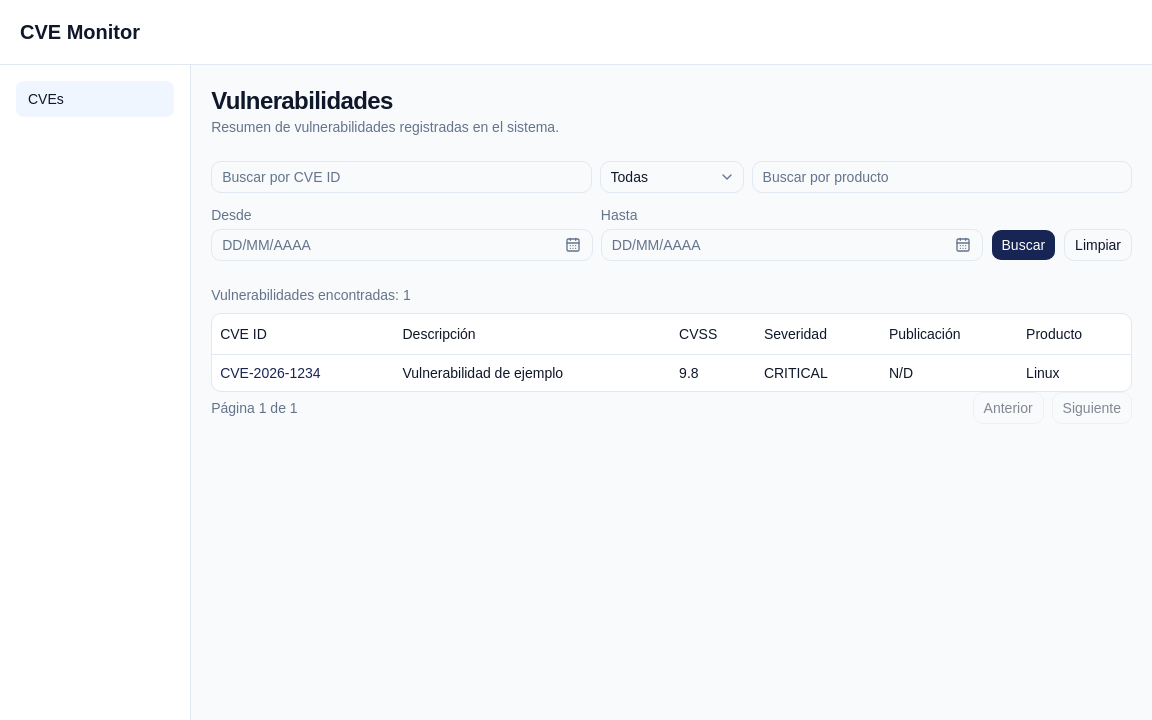
Test: CveListPage › oculta resultados anteriores cuando las fechas son inválidas
expect the text "Vulnerabilidades encontradas: 1" is shown: met, box [211,287,411,303]
expect the table is shown: met, box [212,314,1131,390]
# Introducir una fecha inexistente.
Type "31/02/2026" into the field labelled "Desde" at (402, 245), box [211,229,593,261]
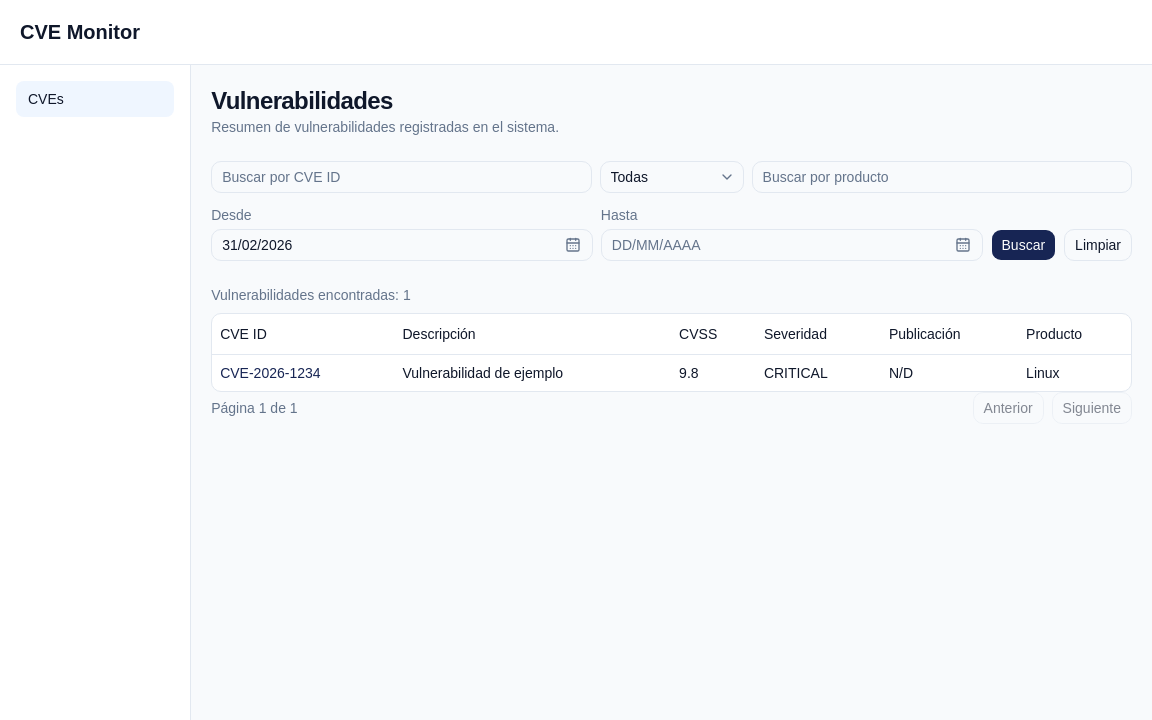
Click the button "Buscar" at (1023, 245), box [990,229,1056,261]
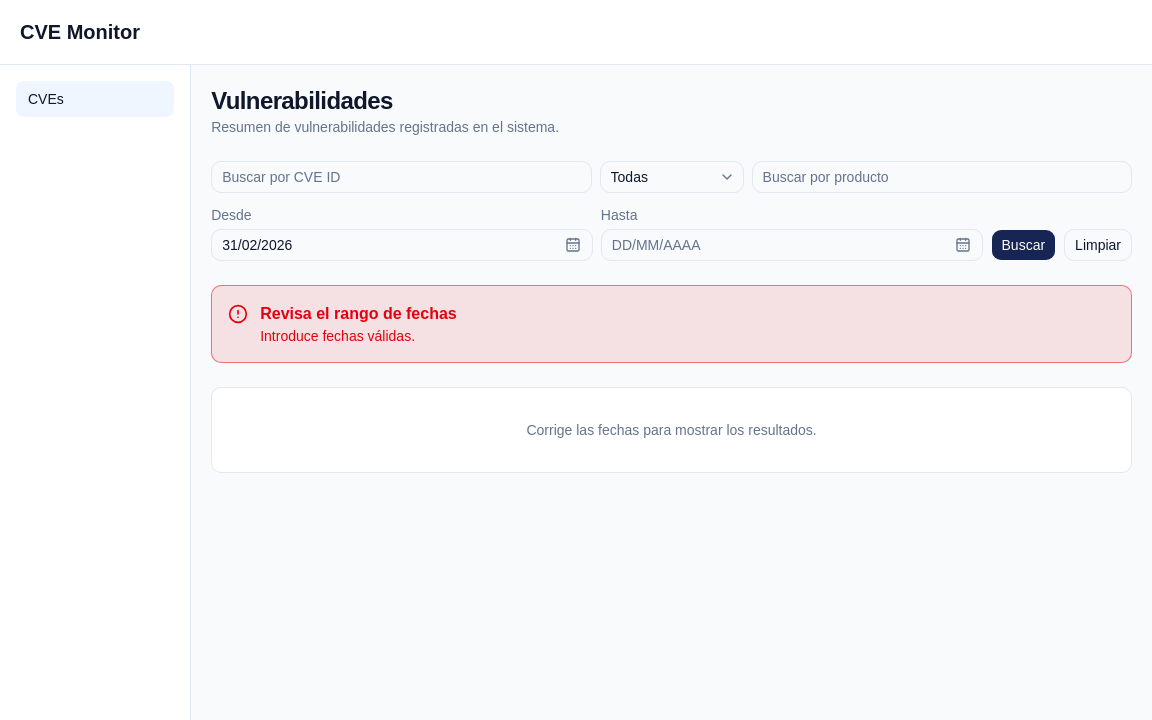
expect the message shows "Introduce fechas válidas.": met, box [260,328,415,344]
expect the table is gone: met
expect the text "Vulnerabilidades encontradas: 1" is gone: met
# Corregir la fecha.
Replace the text in the field labelled "Desde" with "01/02/2026" at (402, 245), box [211,229,593,261]
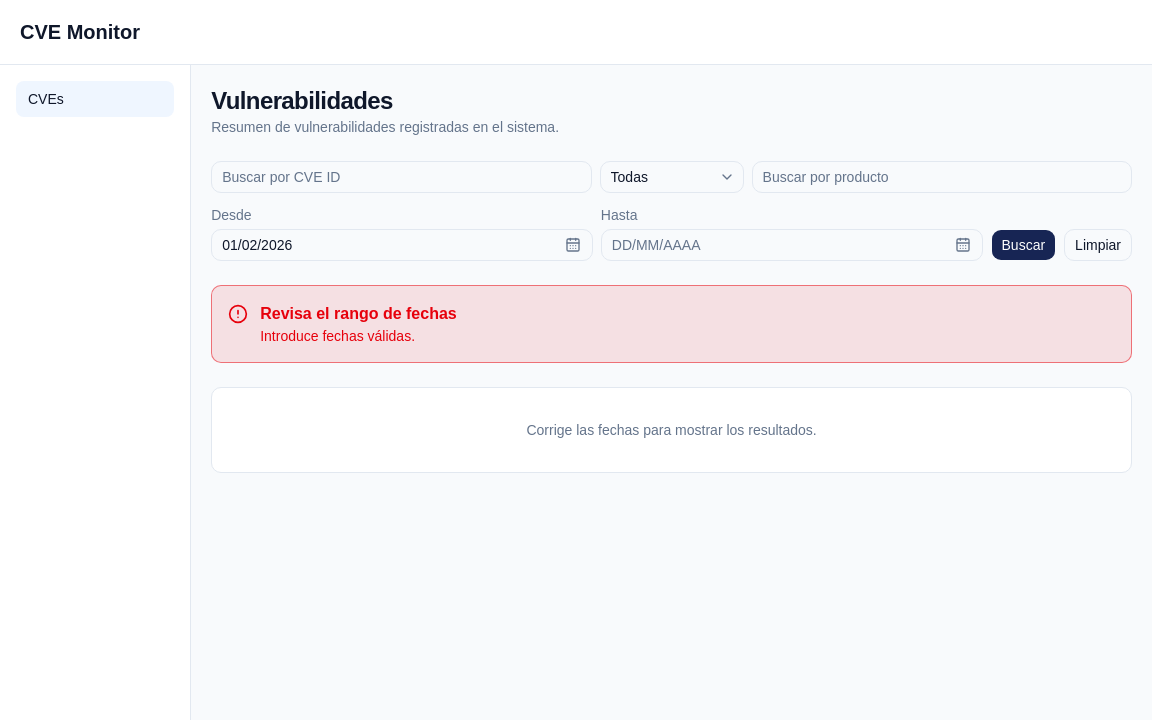
Click the button "Buscar" at (1023, 245), box [990,229,1056,261]
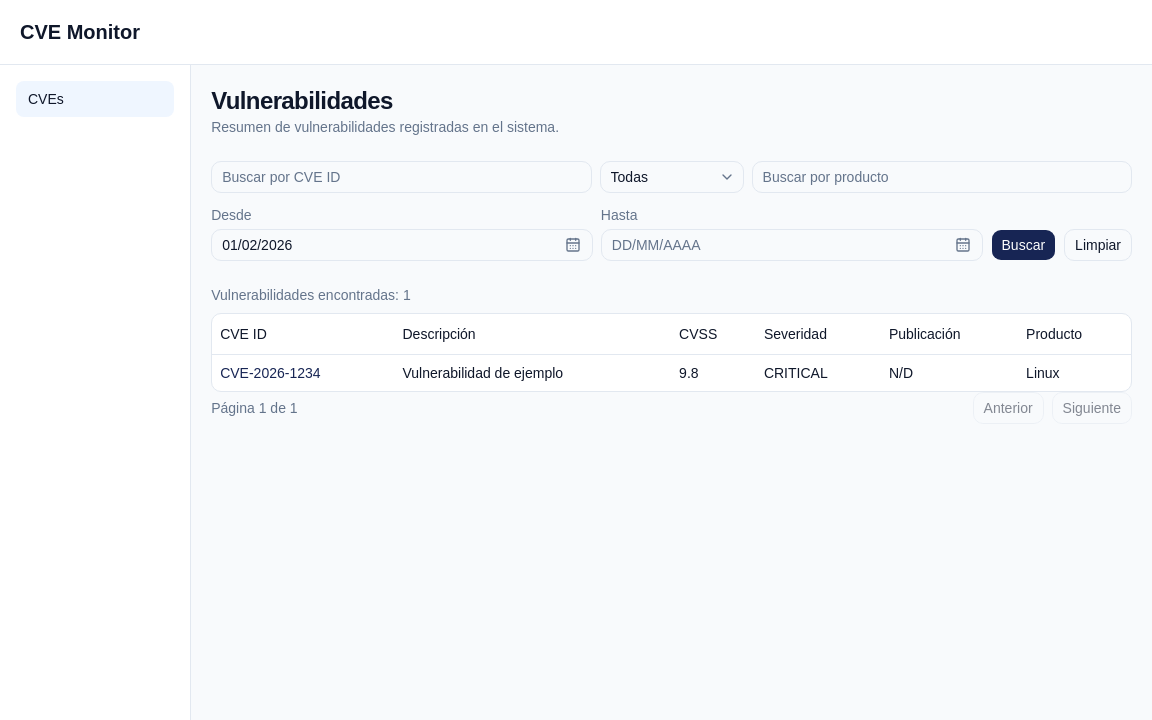
expect the text "Vulnerabilidades encontradas: 1" is shown: met, box [211,287,411,303]
expect the table is shown: met, box [212,314,1131,390]
expect the message "Revisa el rango de fechas Introduce fechas válidas." is gone: met
